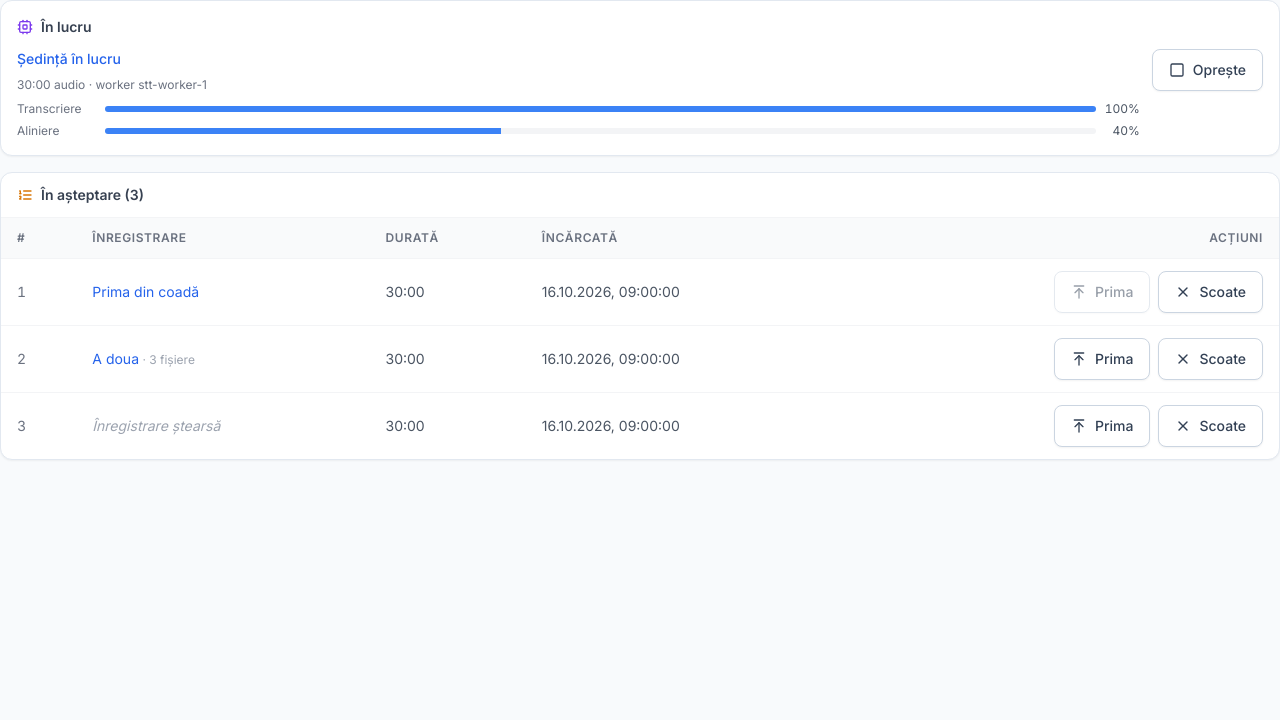
Scenario: QueuePanel › afișează eroarea primită de la server
Click the button "Oprește". click: (1207, 70)
box: [1152,49,1263,91]
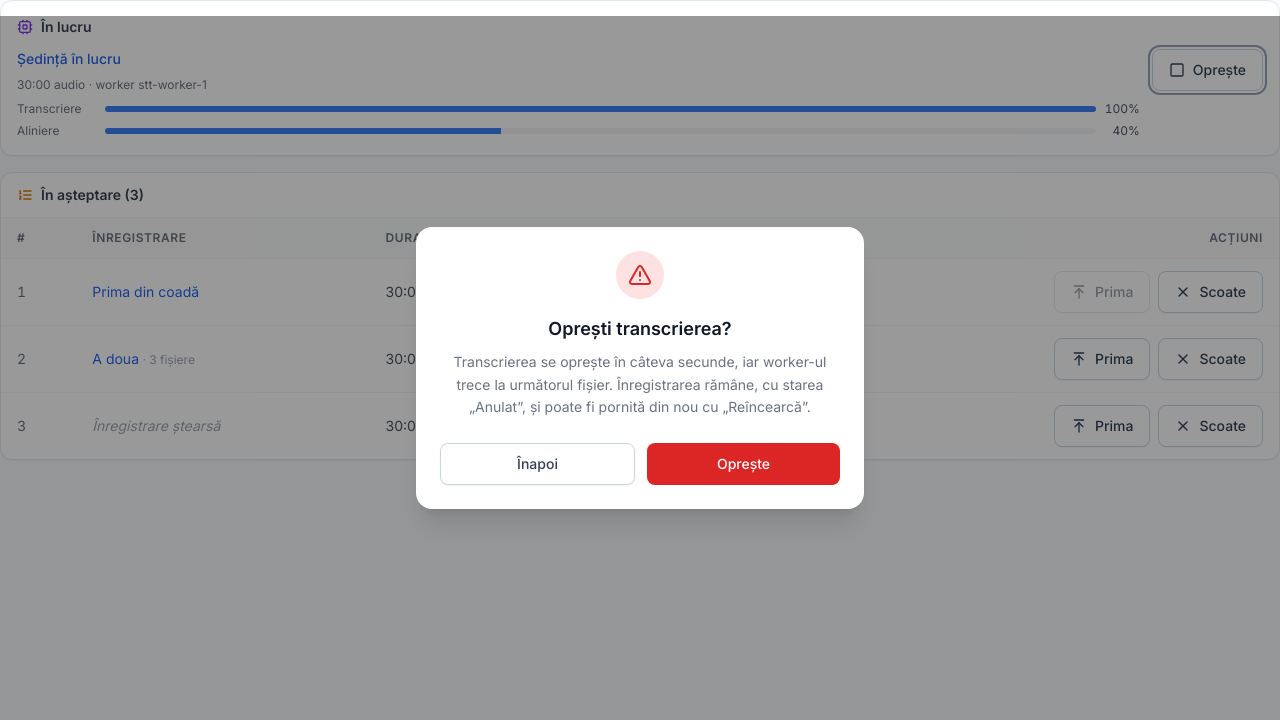
Click the button "Oprește". click: (744, 464)
box: [647,443,840,485]
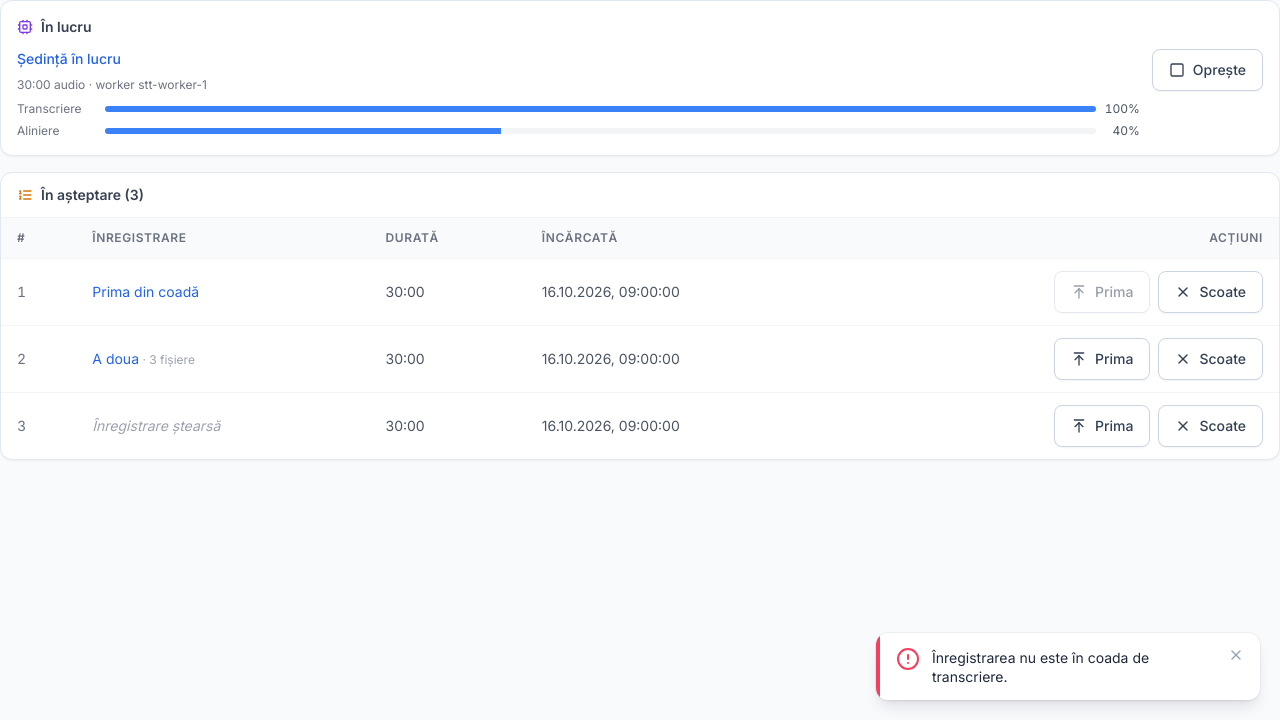
expect the text "Înregistrarea nu este în coada de transcriere." is shown: met, box [932,648,1149,685]
